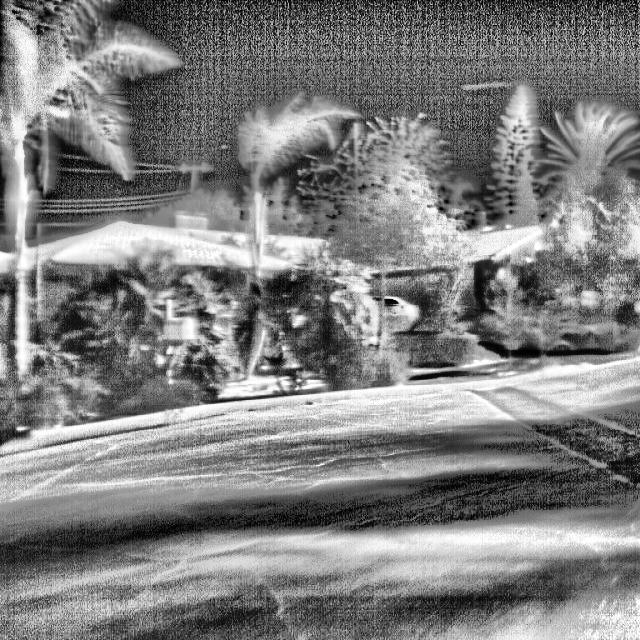car: (377, 296, 423, 330)
